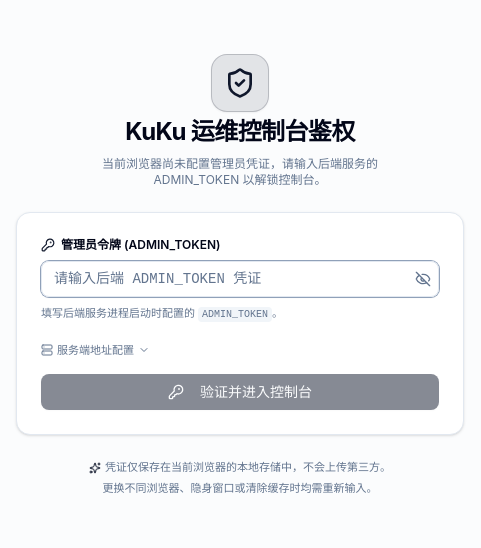
Test: AdminAuthGate › displays error alert when verification fails
Step 1. Type "bad-token" into the password field with placeholder "请输入后端 ADMIN_TOKEN 凭证" → (240,279), box [41,261,439,297]
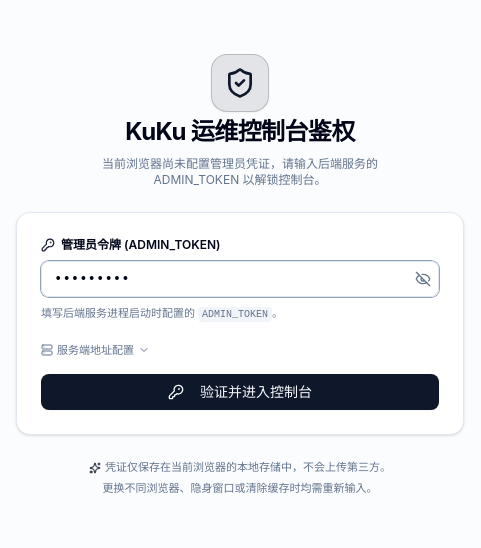
Step 2. Click the button "验证并进入控制台" → (240,392), box [41,374,439,410]
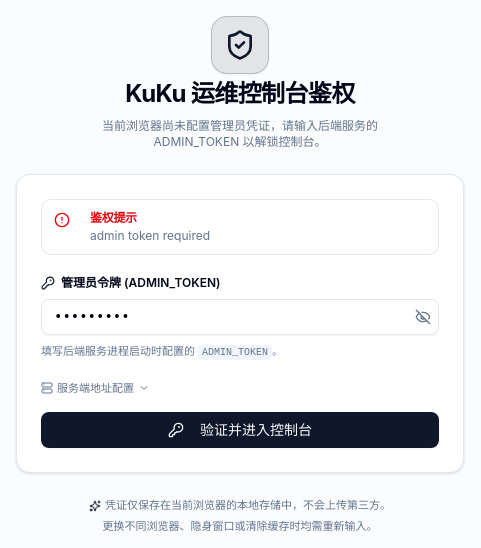
Result: the text "admin token required" is shown at [90,228,210,243]
